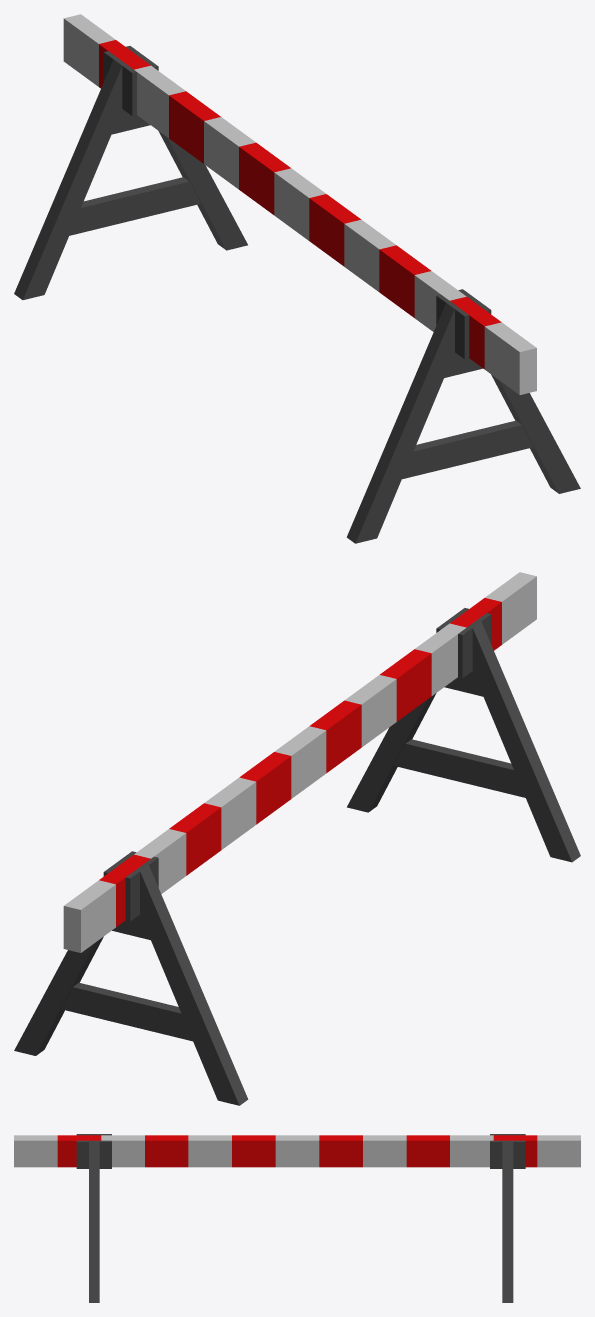
File: Barrier.fbx
The picture shows the model from 3 angles, top to bottom: view 1: azimuth 30°, elevation 25°; view 2: azimuth 150°, elevation 25°; view 3: azimuth 270°, elevation 25°; orthographic projection. The views are drawn at different scales.
Parts seen in each view (by area): view 1: Barrier1; view 2: Barrier1; view 3: Barrier1.
Part boxes in pixels (left/top/right/bottom): Barrier1: left=14, top=14, right=580, bottom=543; Barrier1: left=14, top=572, right=580, bottom=1105; Barrier1: left=14, top=1134, right=580, bottom=1302.
Size of the model in its own units: 91.33 by 81.33 by 320.
